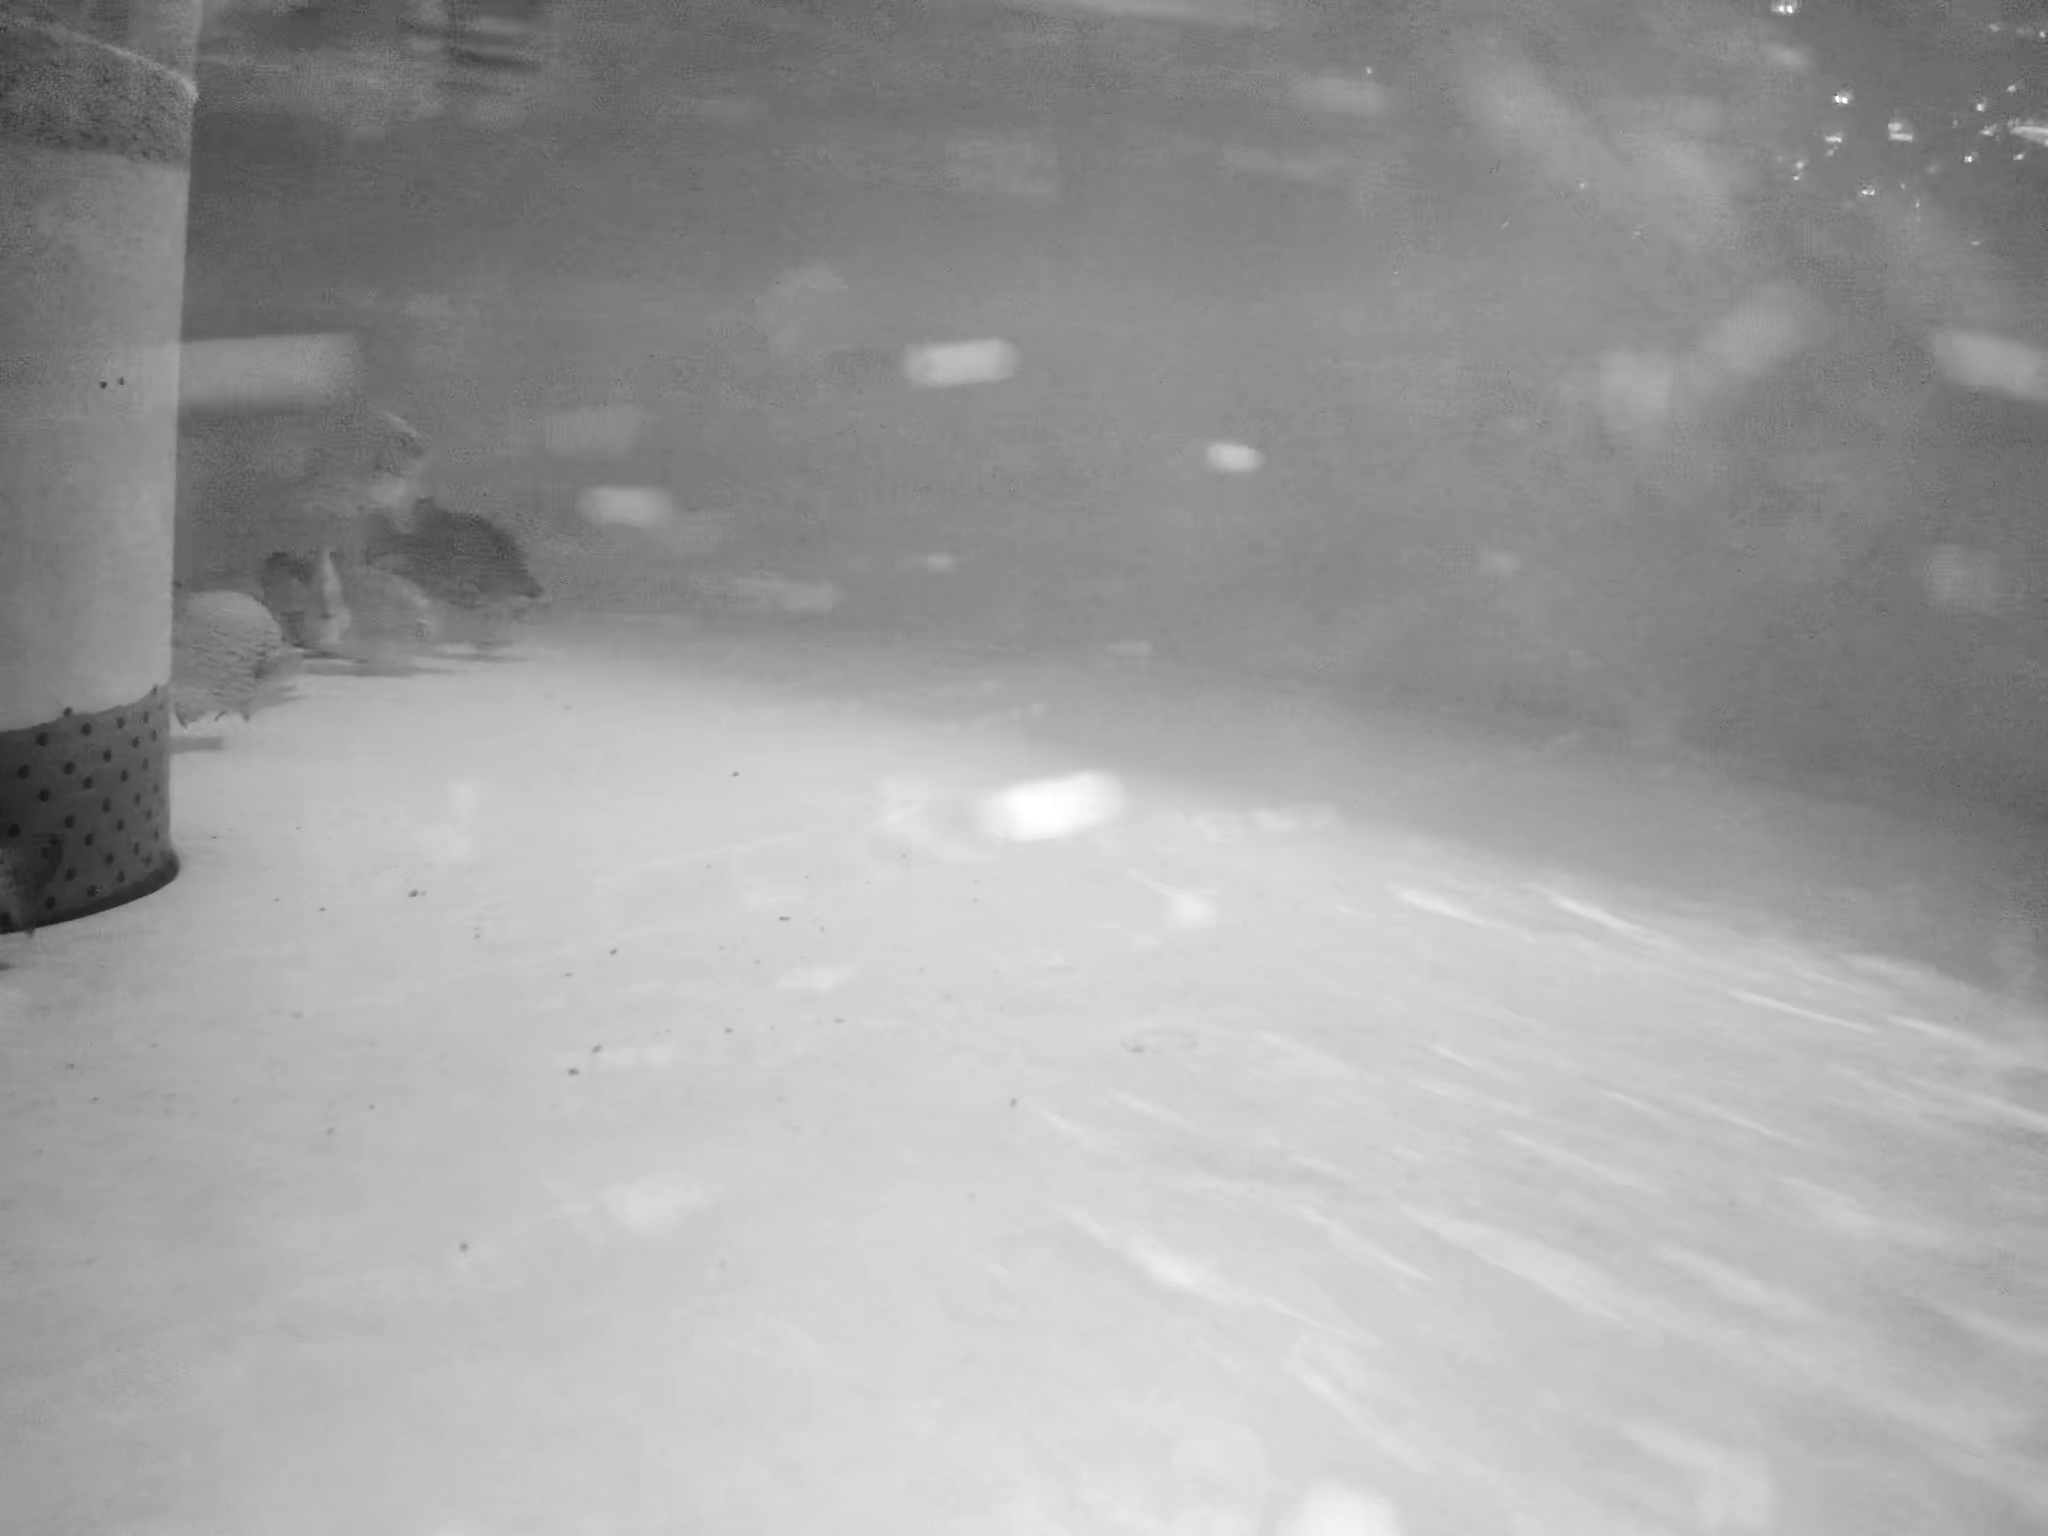fish: (360, 503, 556, 645), (156, 578, 316, 723), (285, 407, 448, 508), (260, 537, 368, 663)
